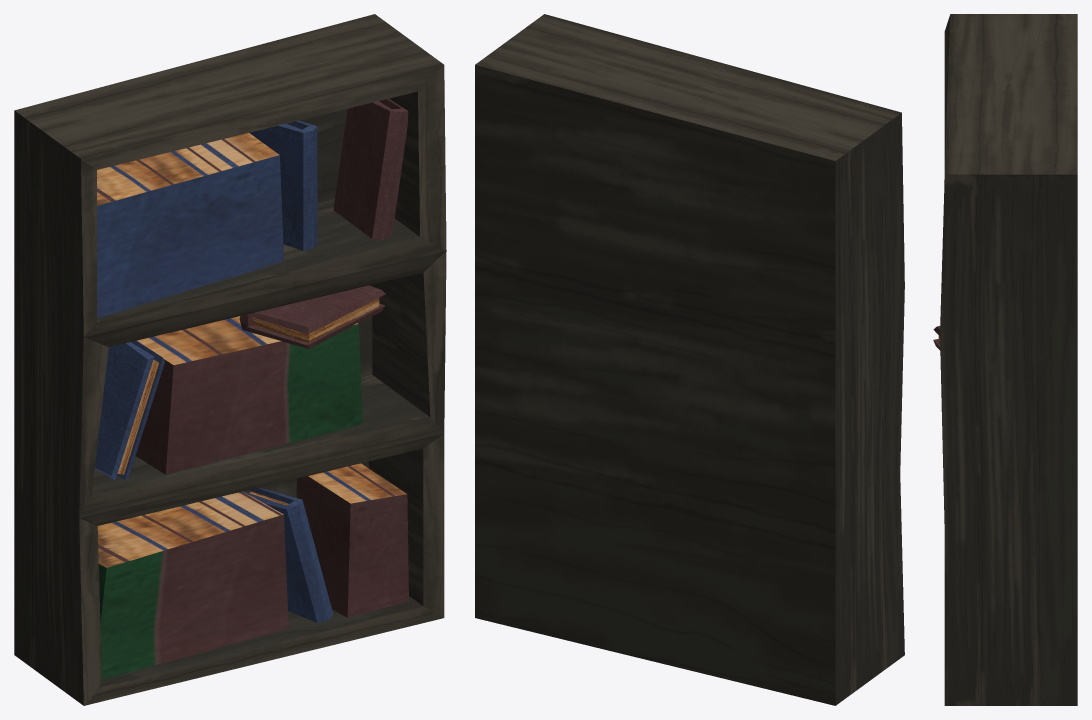
File: bookCase01.fbx
The picture shows the model from 3 angles, left to right: view 1: azimuth 30°, elevation 25°; view 2: azimuth 150°, elevation 25°; view 3: azimuth 270°, elevation 25°; orthographic projection. The views are drawn at different scales.
Visible parts, largest first — view 1: polySurface4; view 2: polySurface4; view 3: polySurface4.
Boxes of the visible parts, x1,y1,x2,y2 form: polySurface4: (14, 14, 446, 705); polySurface4: (475, 14, 904, 705); polySurface4: (933, 14, 1077, 705).
Bounding box in the file's own units: 150 × 220 × 54.3.
